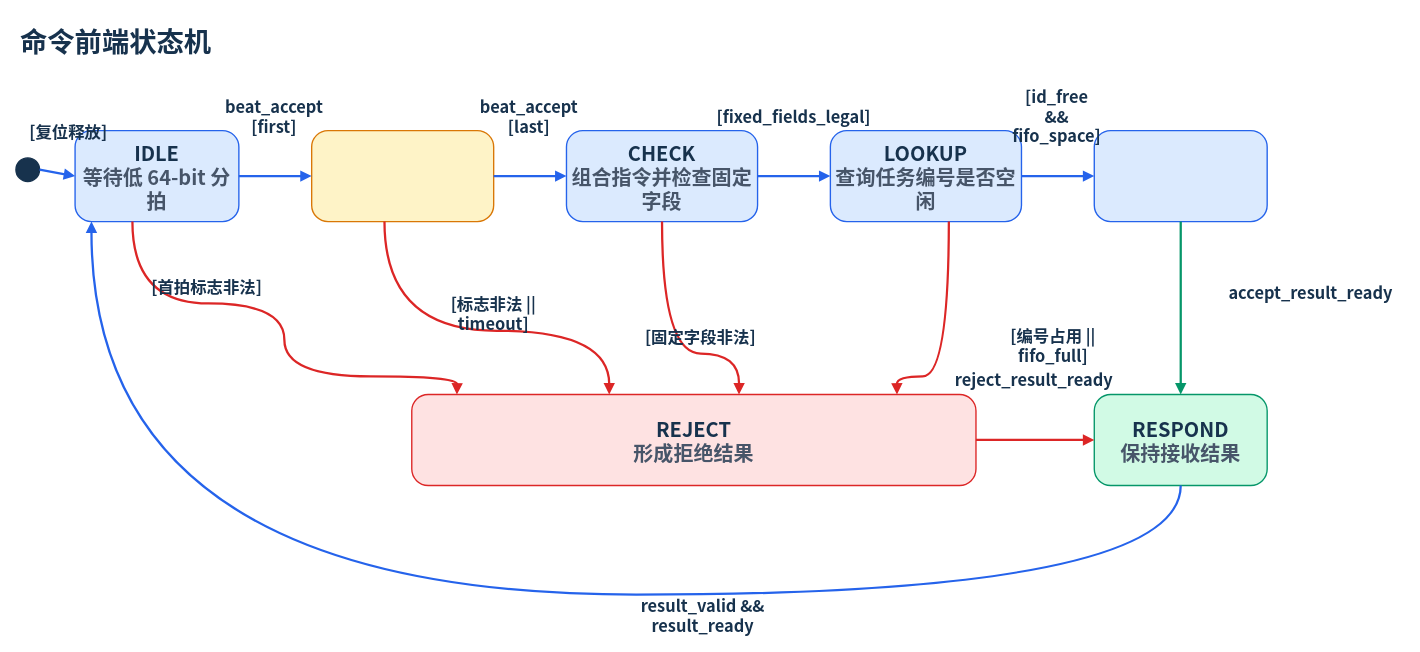
Image size: 1420x652. Some labels were removed from this diagram. The shapes that lost their labels are listed below. From the top down, each one's centre as x and y in pixels, then its label:
At [402,175]: "WAIT_HIGH 等待高分拍；最多 32 周期".
At [1180,175]: "ENQUEUE 完整指令写入队列".
